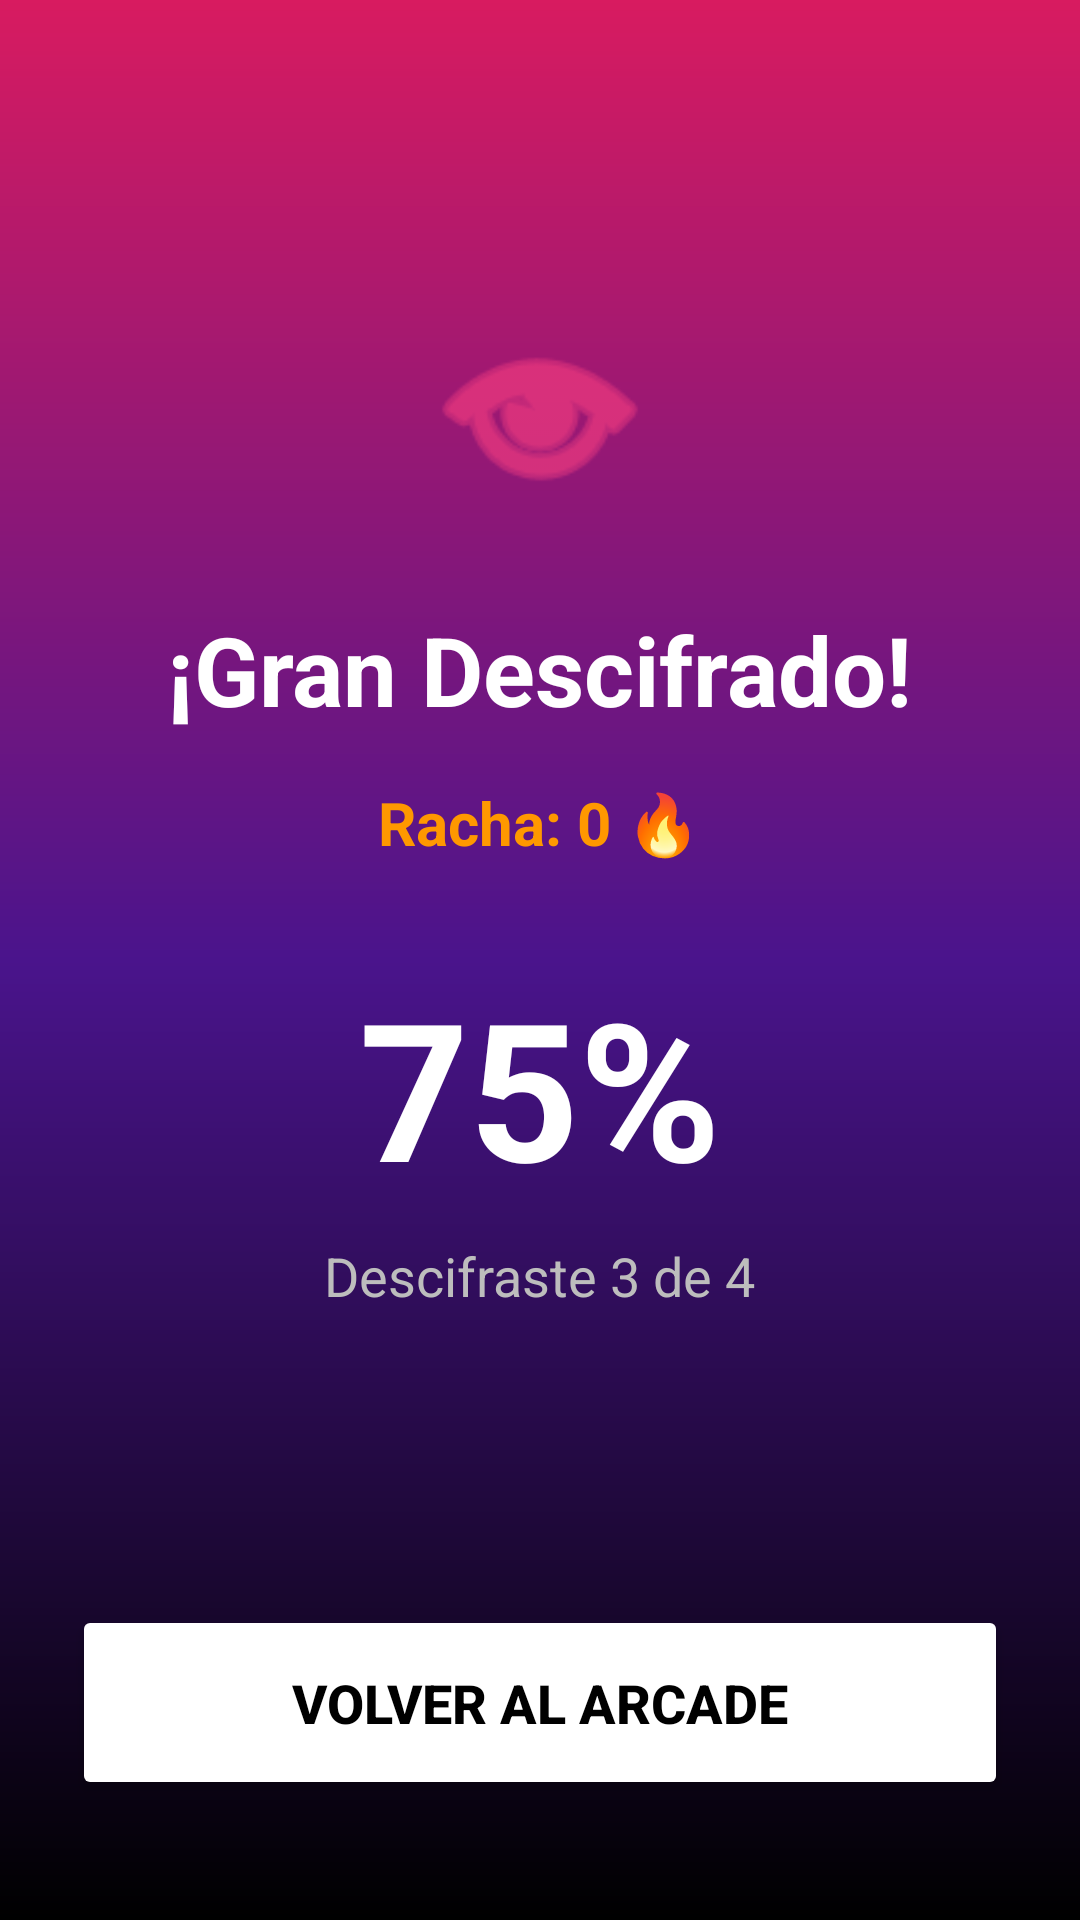

Icons on this 1080×1920 Android screen, each with the point to tap as (x=x, y=y):
view: (x=540, y=413)
